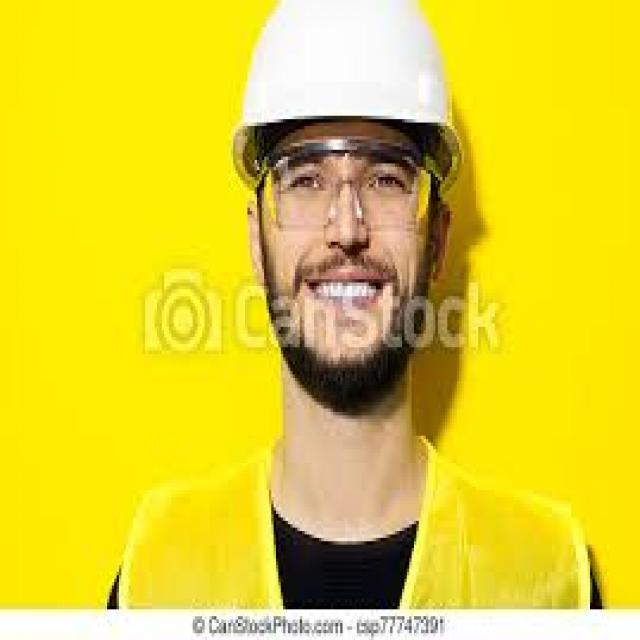Safety-Helmet: (228, 3, 478, 170)
